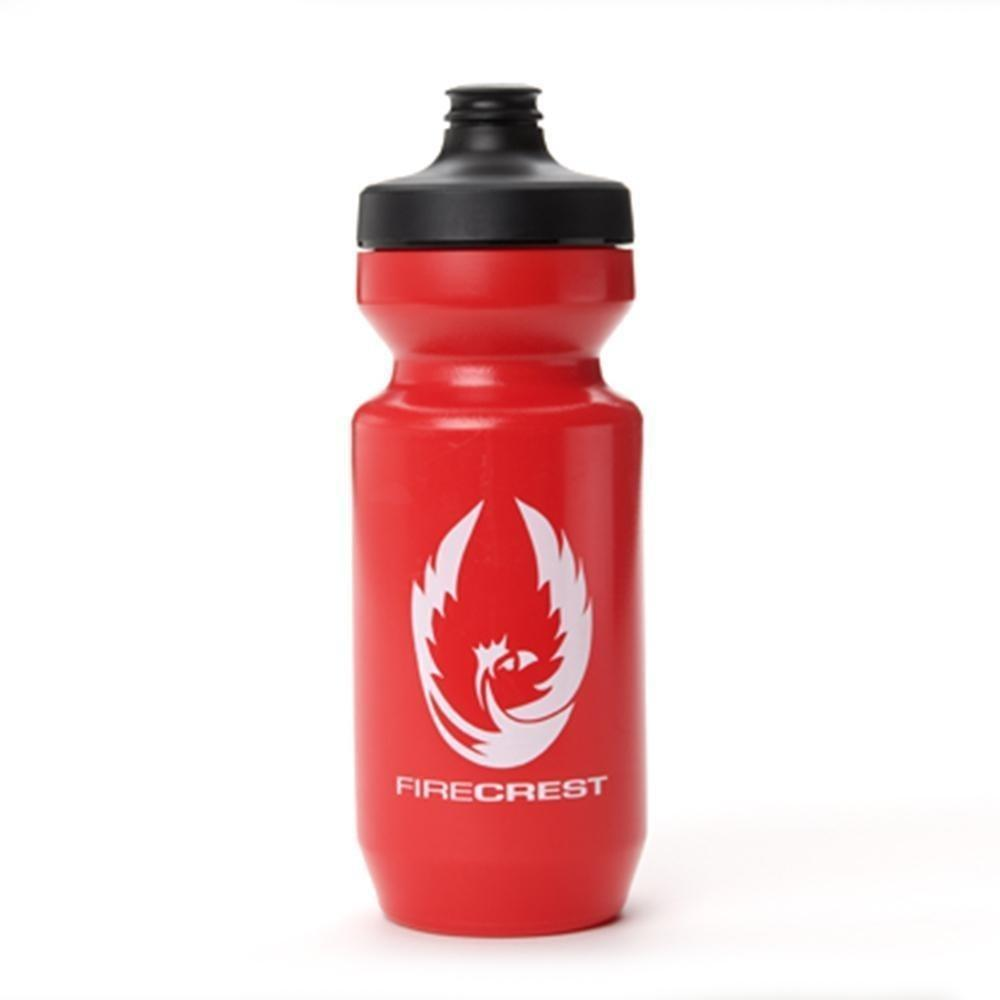gym bottle: (347, 77, 652, 944)
